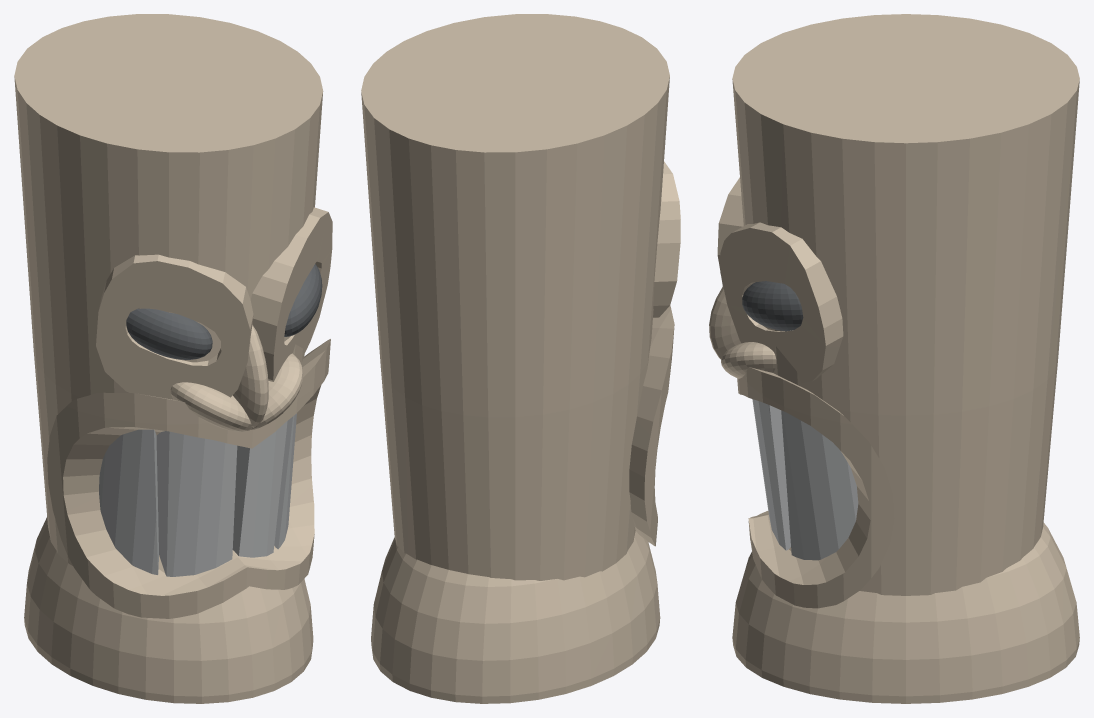
File: Copy of Tiki.glb
3 renders of one model, left to right at view 1: azimuth 30°, elevation 25°; view 2: azimuth 150°, elevation 25°; view 3: azimuth 270°, elevation 25°, orthographic. The views are drawn at different scales.
Parts seen in each view (by area): view 1: Mesh_Mesh_head_geo.001_lambert2SG.001; view 2: Mesh_Mesh_head_geo.001_lambert2SG.001; view 3: Mesh_Mesh_head_geo.001_lambert2SG.001.
Part boxes in pixels (bbox=[...]): Mesh_Mesh_head_geo.001_lambert2SG.001: bbox=[14, 14, 332, 703]; Mesh_Mesh_head_geo.001_lambert2SG.001: bbox=[361, 14, 680, 703]; Mesh_Mesh_head_geo.001_lambert2SG.001: bbox=[709, 14, 1079, 703].
Size of the model in its own units: 0.0223 by 0.045 by 0.0267.
